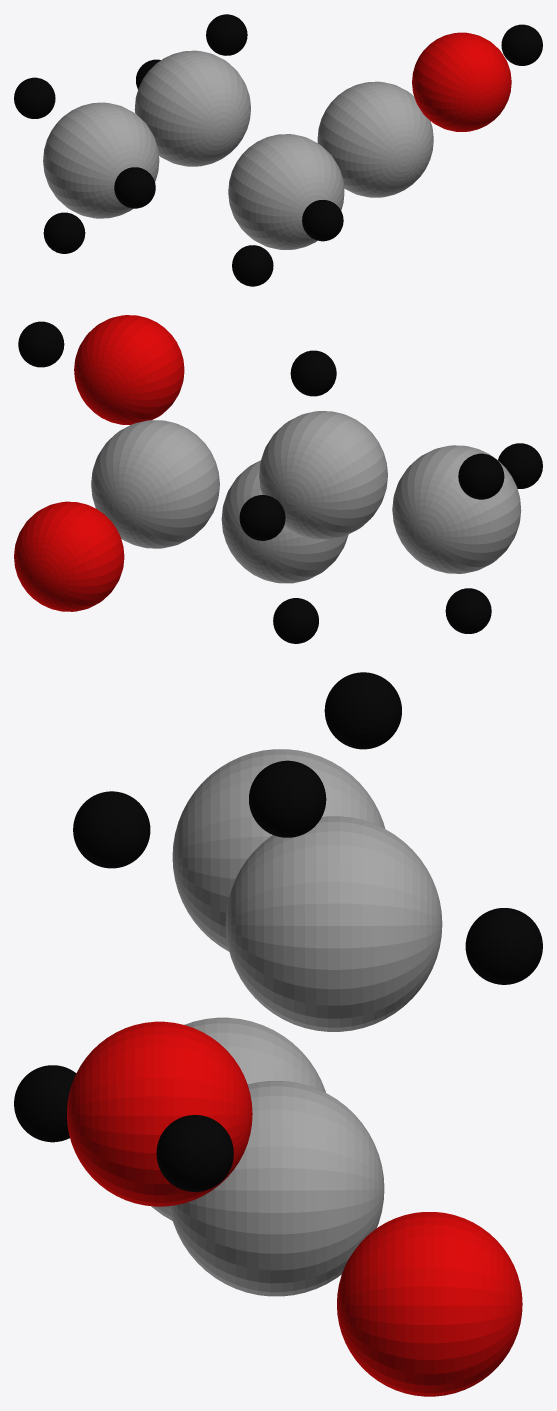
File: Butyric Acid.glb
The picture shows the model from 3 angles, top to bottom: view 1: azimuth 30°, elevation 25°; view 2: azimuth 150°, elevation 25°; view 3: azimuth 270°, elevation 25°; orthographic projection. The views are drawn at different scales.
Visible parts, largest first — view 1: world; view 2: world; view 3: world.
Part boxes in pixels (left/top/right/bottom): world: left=14, top=14, right=542, bottom=286; world: left=14, top=315, right=542, bottom=643; world: left=14, top=672, right=542, bottom=1396.
Size of the model in its own units: 6.65 by 3.58 by 3.42.
